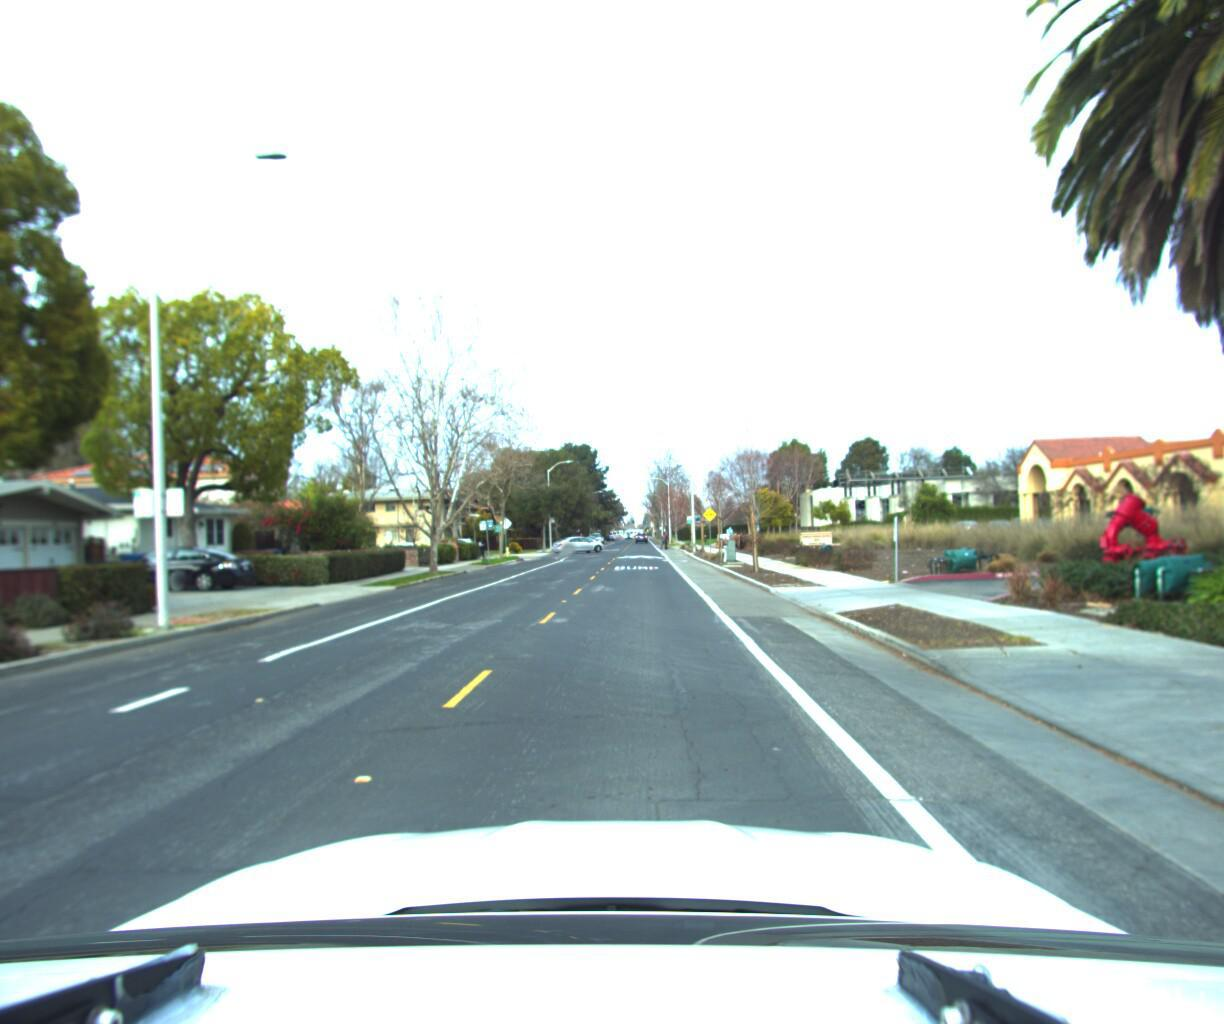car: (100, 542, 266, 594), (547, 529, 605, 551)
